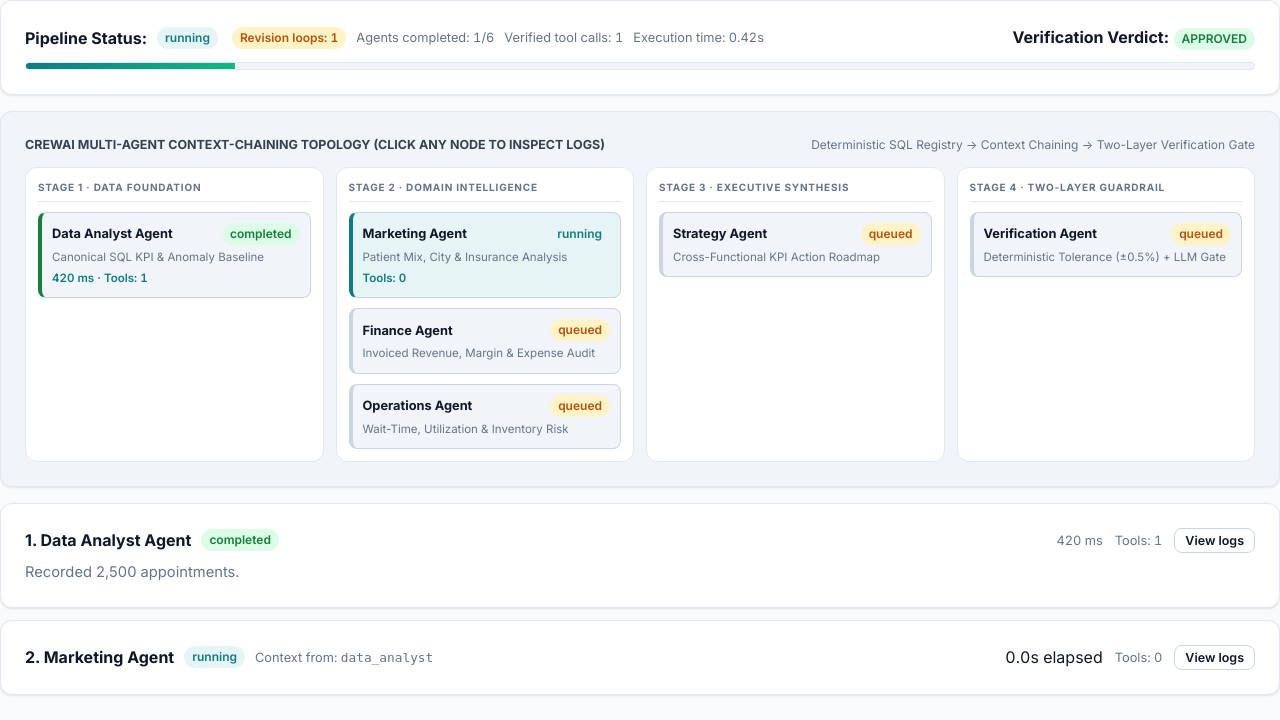
Scenario: AgentPipeline monitor › renders agent statuses, revision count, verdict, and expands agent tool logs
Check: the text "1. Data Analyst Agent" is shown, box [25,528,191,552]
Check: the text "2. Marketing Agent" is shown, box [25,645,174,669]
Click the button "View logs" in the row of "1. Data Analyst Agent" at (1215, 540), box [1174,528,1255,553]
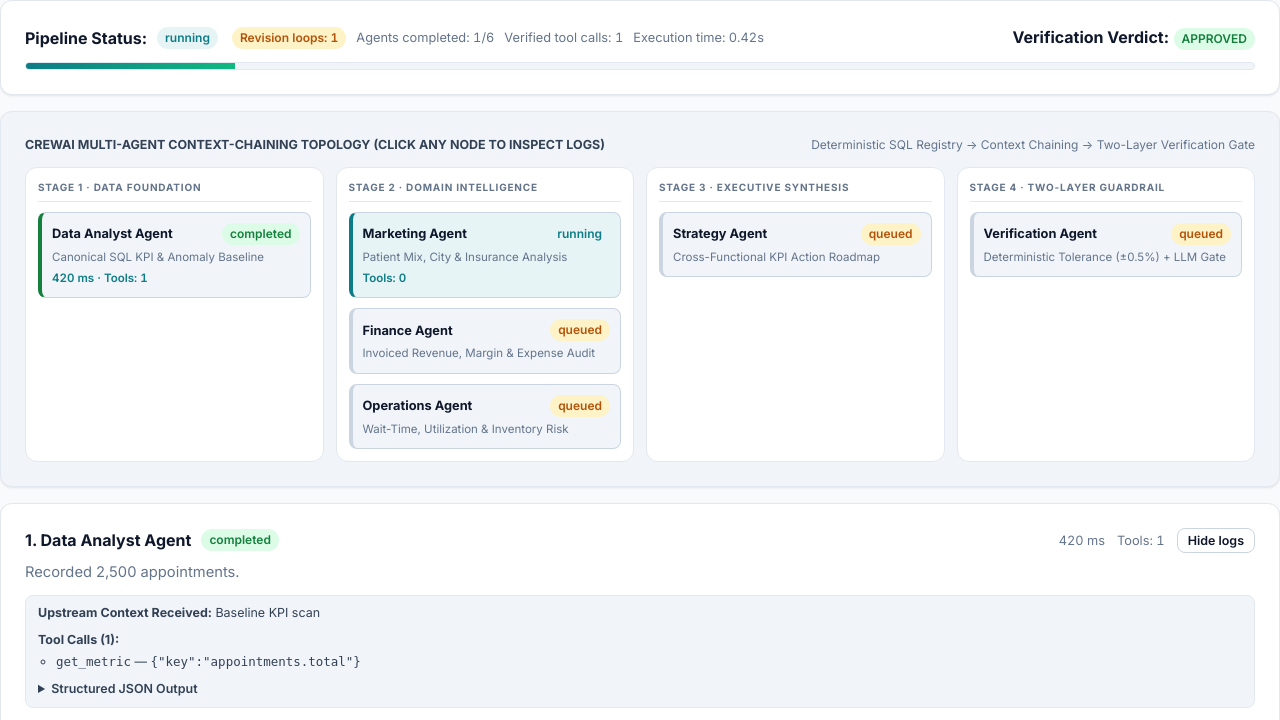
Check: the text "Upstream Context Received: Baseline KPI scan" is shown, box [38,605,320,620]
Check: the text "get_metric" is shown, box [56,654,131,669]
